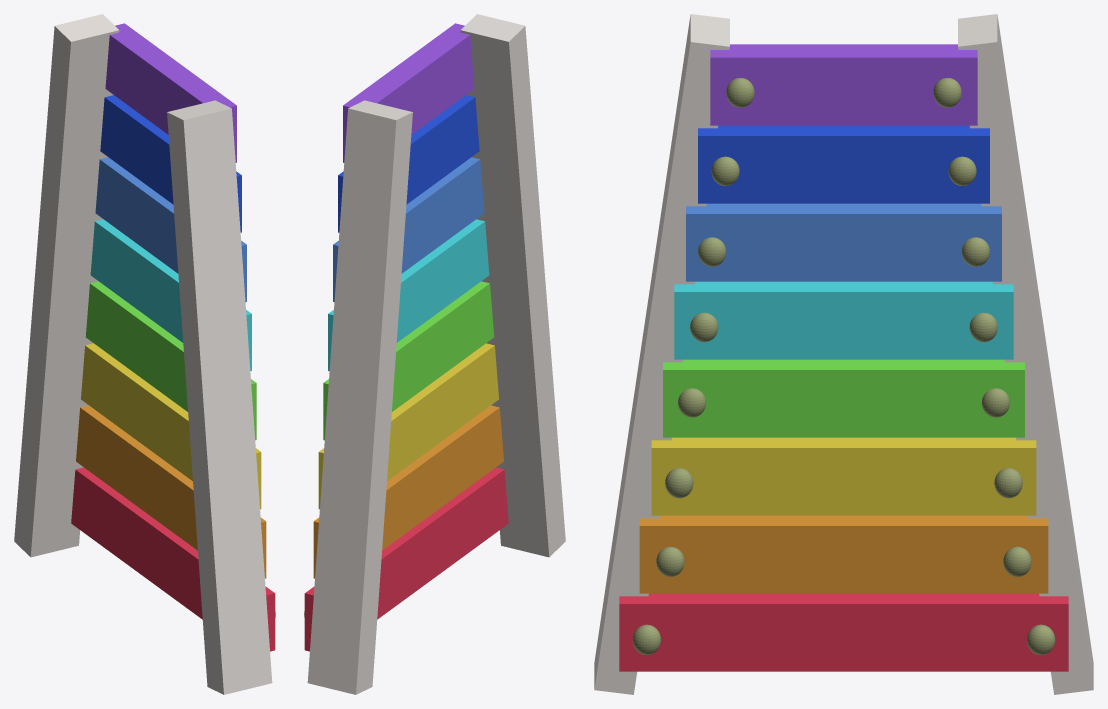
The model's file is xylophone.fbx.
3 views of the same model, side by side, from view 1: azimuth 30°, elevation 25°; view 2: azimuth 150°, elevation 25°; view 3: azimuth 270°, elevation 25° (orthographic). The views are drawn at different scales.
Parts seen in each view (by area): view 1: Cube; view 2: Cube; view 3: Cube.
Boxes of the visible parts, x1,y1,x2,y2 form: Cube: (14, 14, 275, 694); Cube: (304, 14, 565, 694); Cube: (594, 14, 1093, 694).
Size of the model in its own units: 160 by 1167 by 809.
